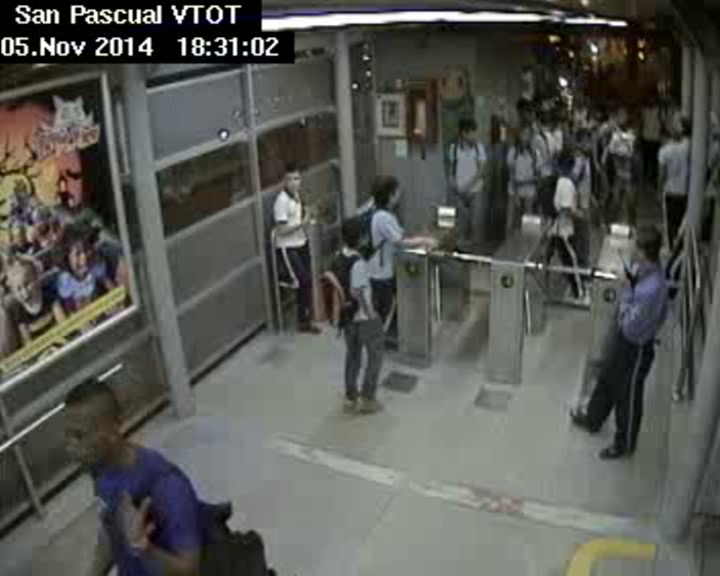person: (52, 379, 133, 475), (623, 224, 665, 267), (368, 171, 401, 212), (276, 158, 308, 197), (335, 217, 373, 246), (453, 114, 478, 146), (664, 123, 692, 143), (572, 129, 594, 153), (611, 105, 632, 127), (518, 103, 539, 123), (558, 150, 574, 176), (514, 125, 531, 149), (544, 108, 558, 128), (645, 91, 658, 107)
